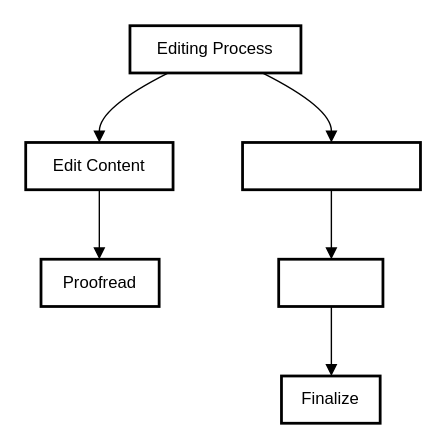
This 445x448 diagram has some shape labels left out. The shapes that lost their labels are listed below. From the top down, each one's centre as x and y in pixels, then its label:
At [330,165]: "Review Content".
At [330,282]: "Approve".
